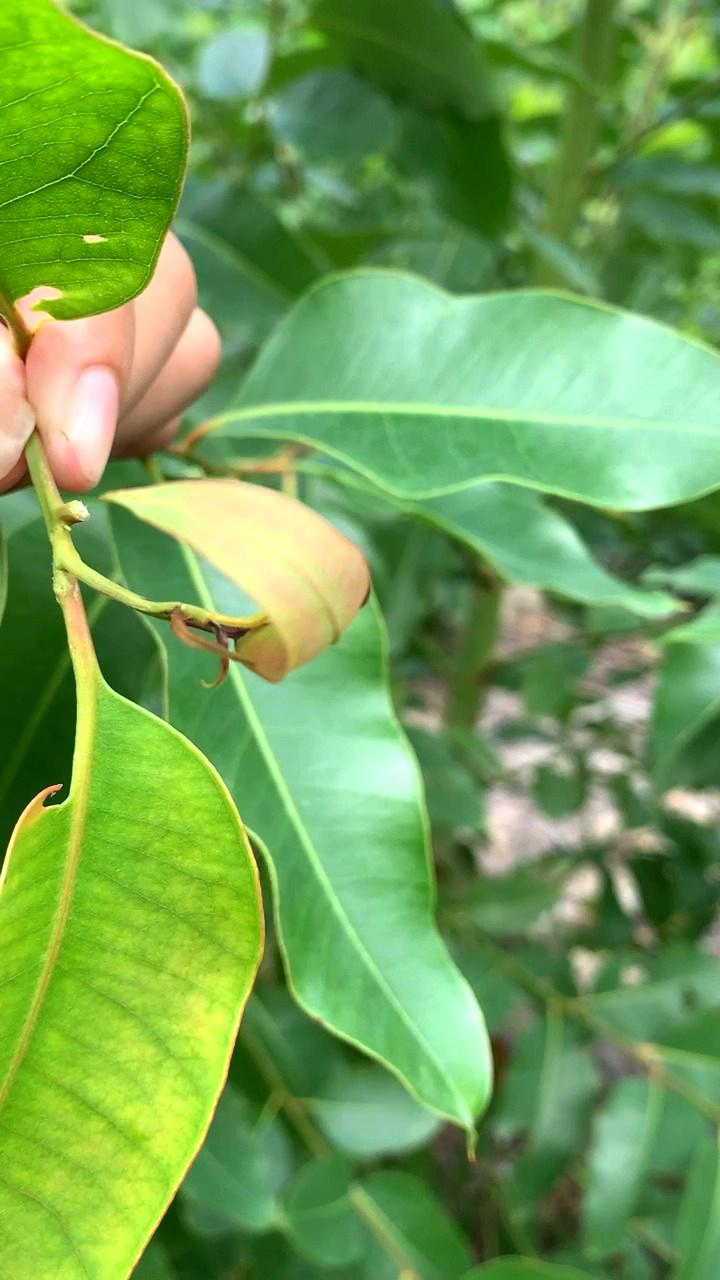Helopeltis-Withered Sprout: (108, 471, 385, 693)
